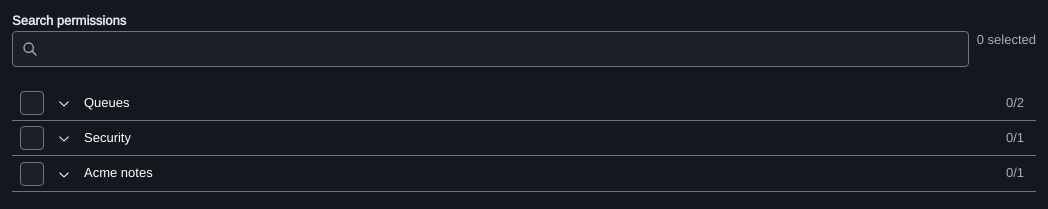
it: PermissionPicker › groups by module or plugin and hides groups the search does not match
The width and height of the screenshot is (1048, 209).
Expected: the button with aria-label "Acme notes, 0 of 1 selected" is shown, [44,156,1036,191]
Type "destroy" into the field labelled "Search permissions" at (490, 49), box [12,31,969,67]
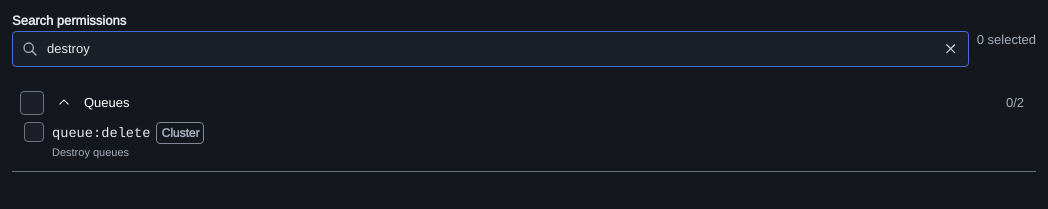
Expected: the checkbox labelled "queue:delete Cluster" is shown, [24,122,44,142]
Expected: the button "Security" is gone
Expected: the button "Acme notes" is gone
